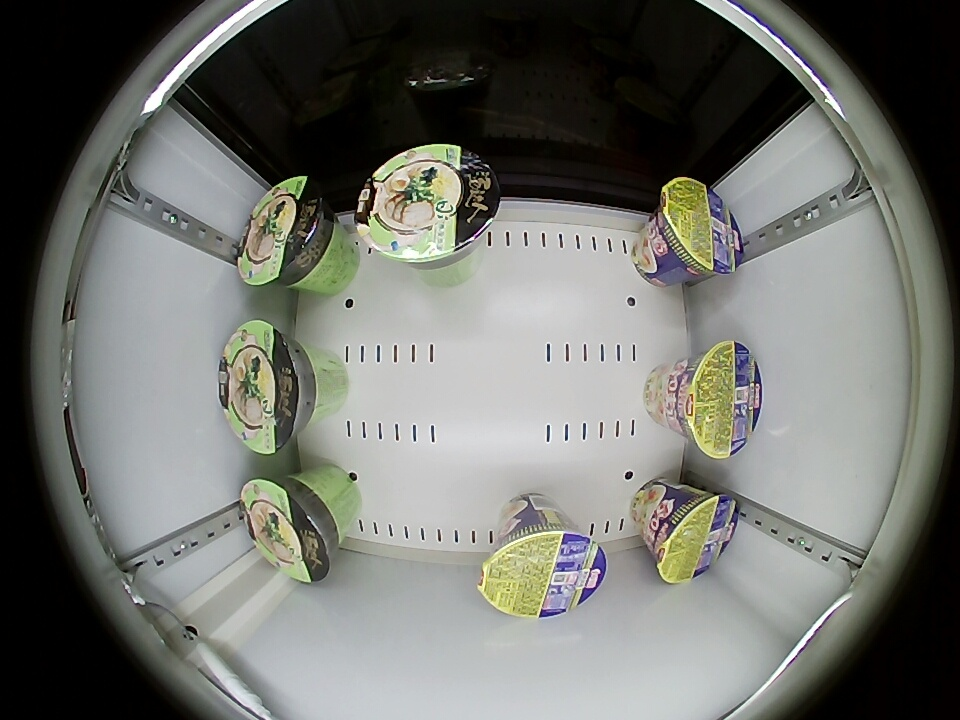heweidao: (478, 507, 608, 619), (675, 341, 764, 460), (656, 177, 745, 278), (656, 489, 740, 583)
tangdaren: (356, 143, 502, 272), (217, 319, 318, 455), (236, 174, 335, 290), (239, 474, 339, 584)
